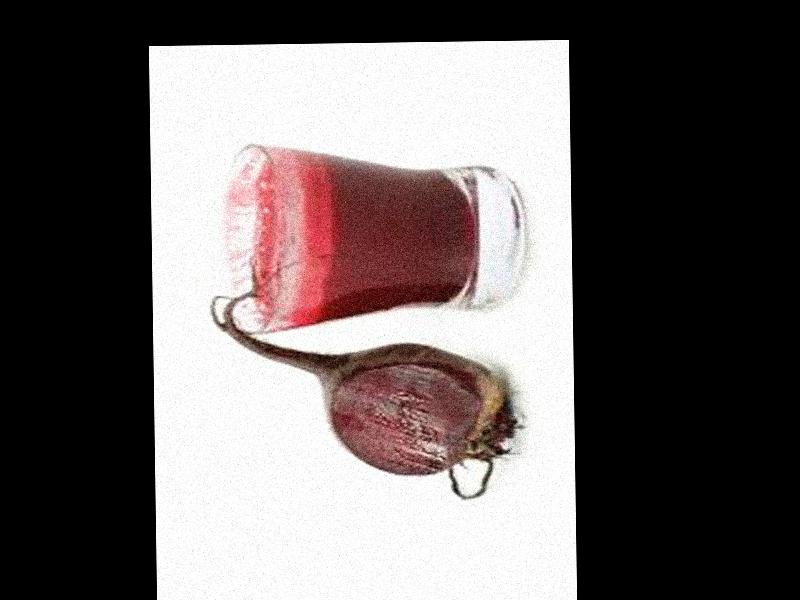Beet: (210, 263, 520, 501)
